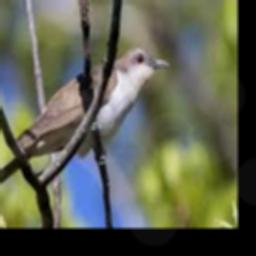Cuckoo: (0, 47, 168, 218)
